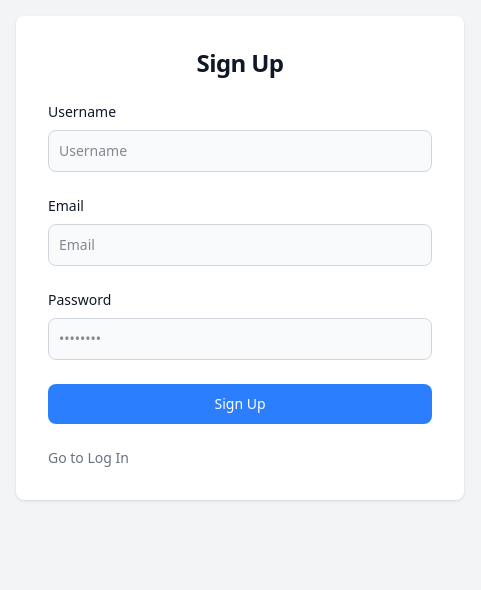
Test: SignupPage › shows validation errors when fields are empty or invalid
Click the button "Sign Up" at (240, 404), box [48,384,432,424]
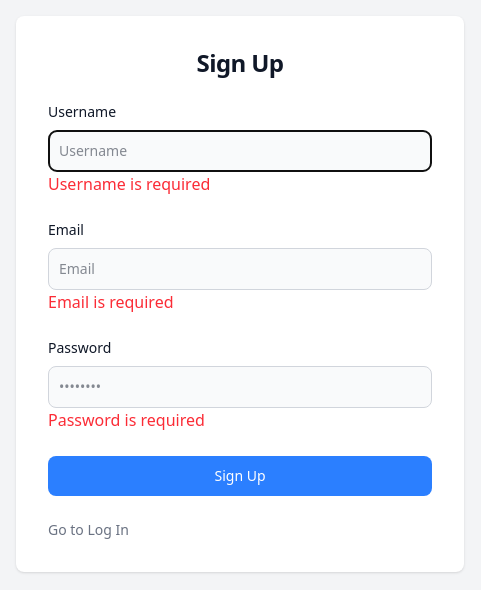
Expected: the text "Username is required" is shown, [48,173,210,195]
Expected: the text "Email is required" is shown, [48,291,174,313]
Expected: the text "Password is required" is shown, [48,409,205,431]
